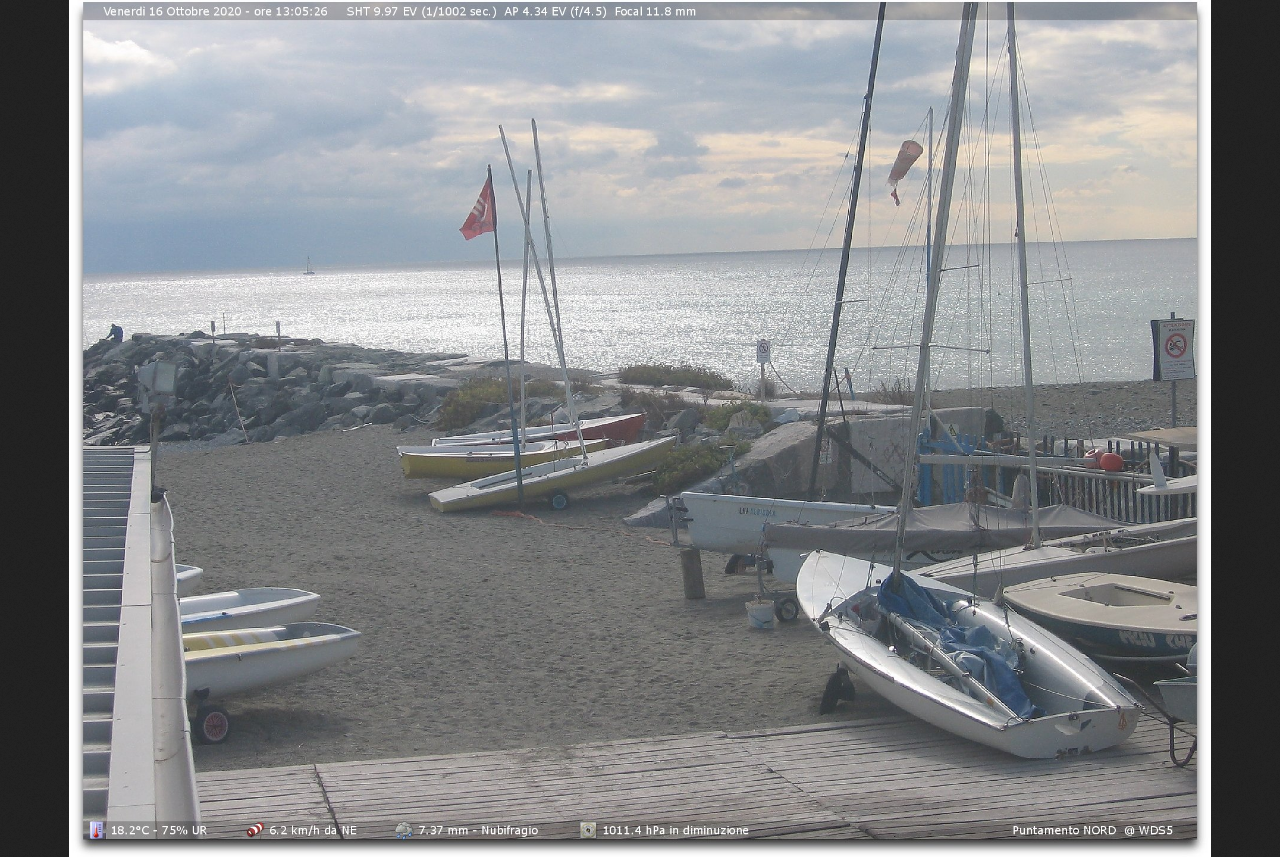maybe: (460, 178, 495, 243)
